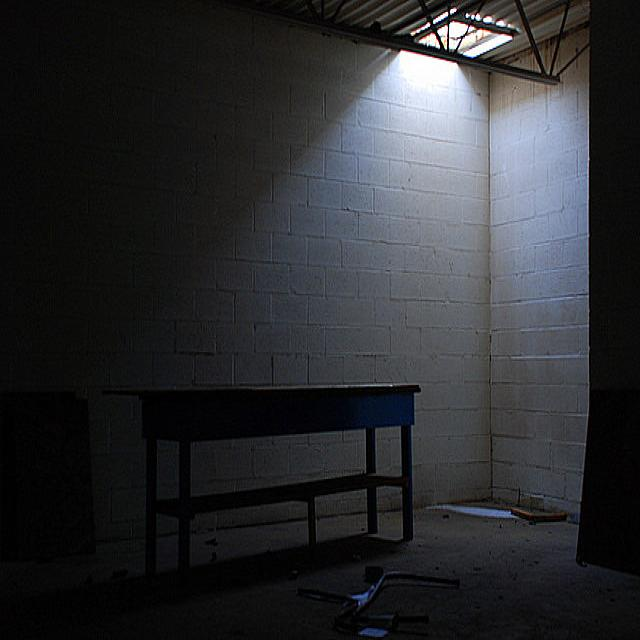Table: (100, 363, 511, 628)
